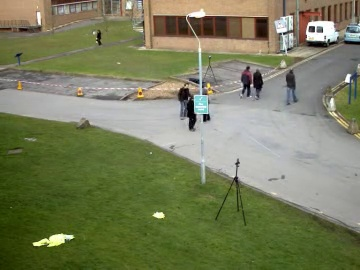person: (176, 85, 193, 128), (179, 86, 195, 128), (178, 87, 194, 128)
